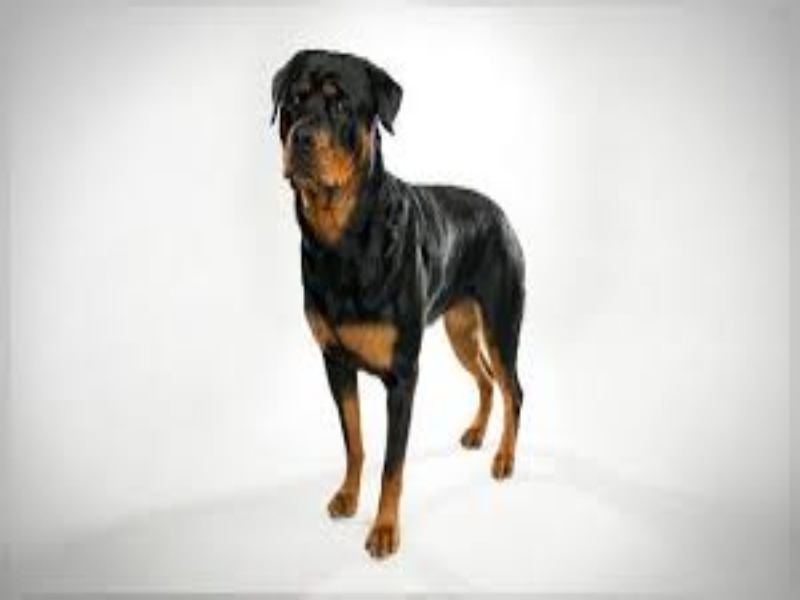dog: (263, 44, 532, 564)
